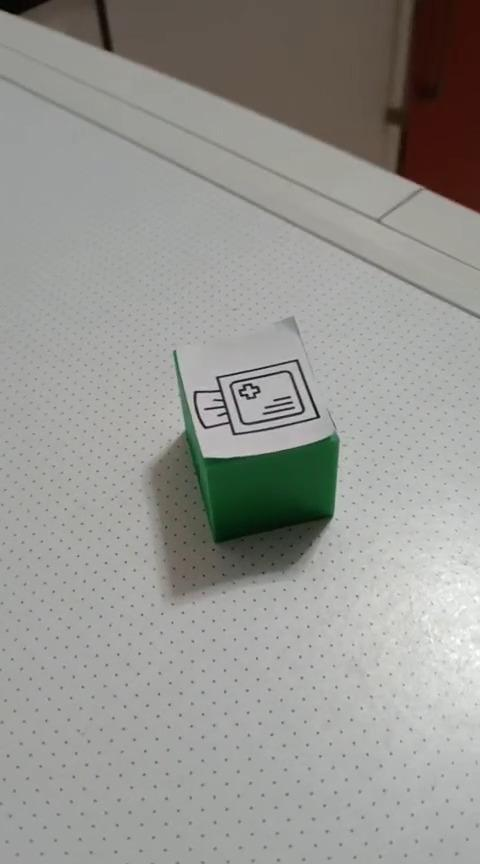Gauze: (170, 314, 340, 543)
